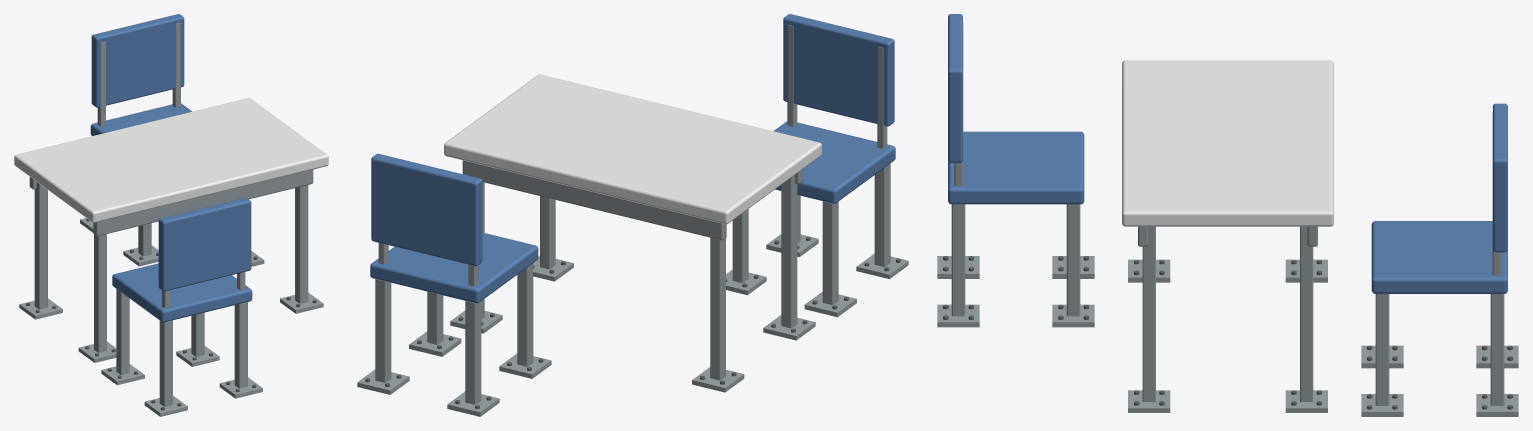
File: prison-complex-builder-visitation-table-1e69ca1b__25678.glb
The picture shows the model from 3 angles, left to right: view 1: azimuth 30°, elevation 25°; view 2: azimuth 150°, elevation 25°; view 3: azimuth 270°, elevation 25°; orthographic projection. The views are drawn at different scales.
Visible parts, largest first — view 1: visitation-table; view 2: visitation-table; view 3: visitation-table.
Part boxes in pixels (bbox=[...]): visitation-table: bbox=[14, 14, 328, 416]; visitation-table: bbox=[357, 14, 908, 416]; visitation-table: bbox=[937, 14, 1518, 416].
Size of the model in its own units: 1.22 by 0.9201 by 1.92.
